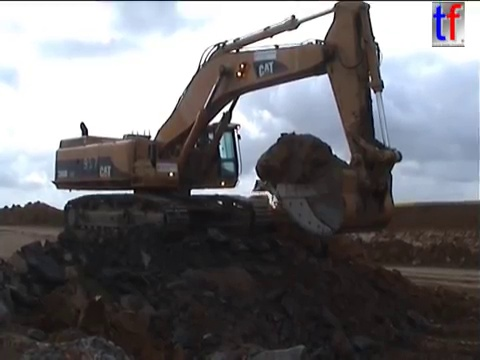excavator: (47, 1, 407, 245)
